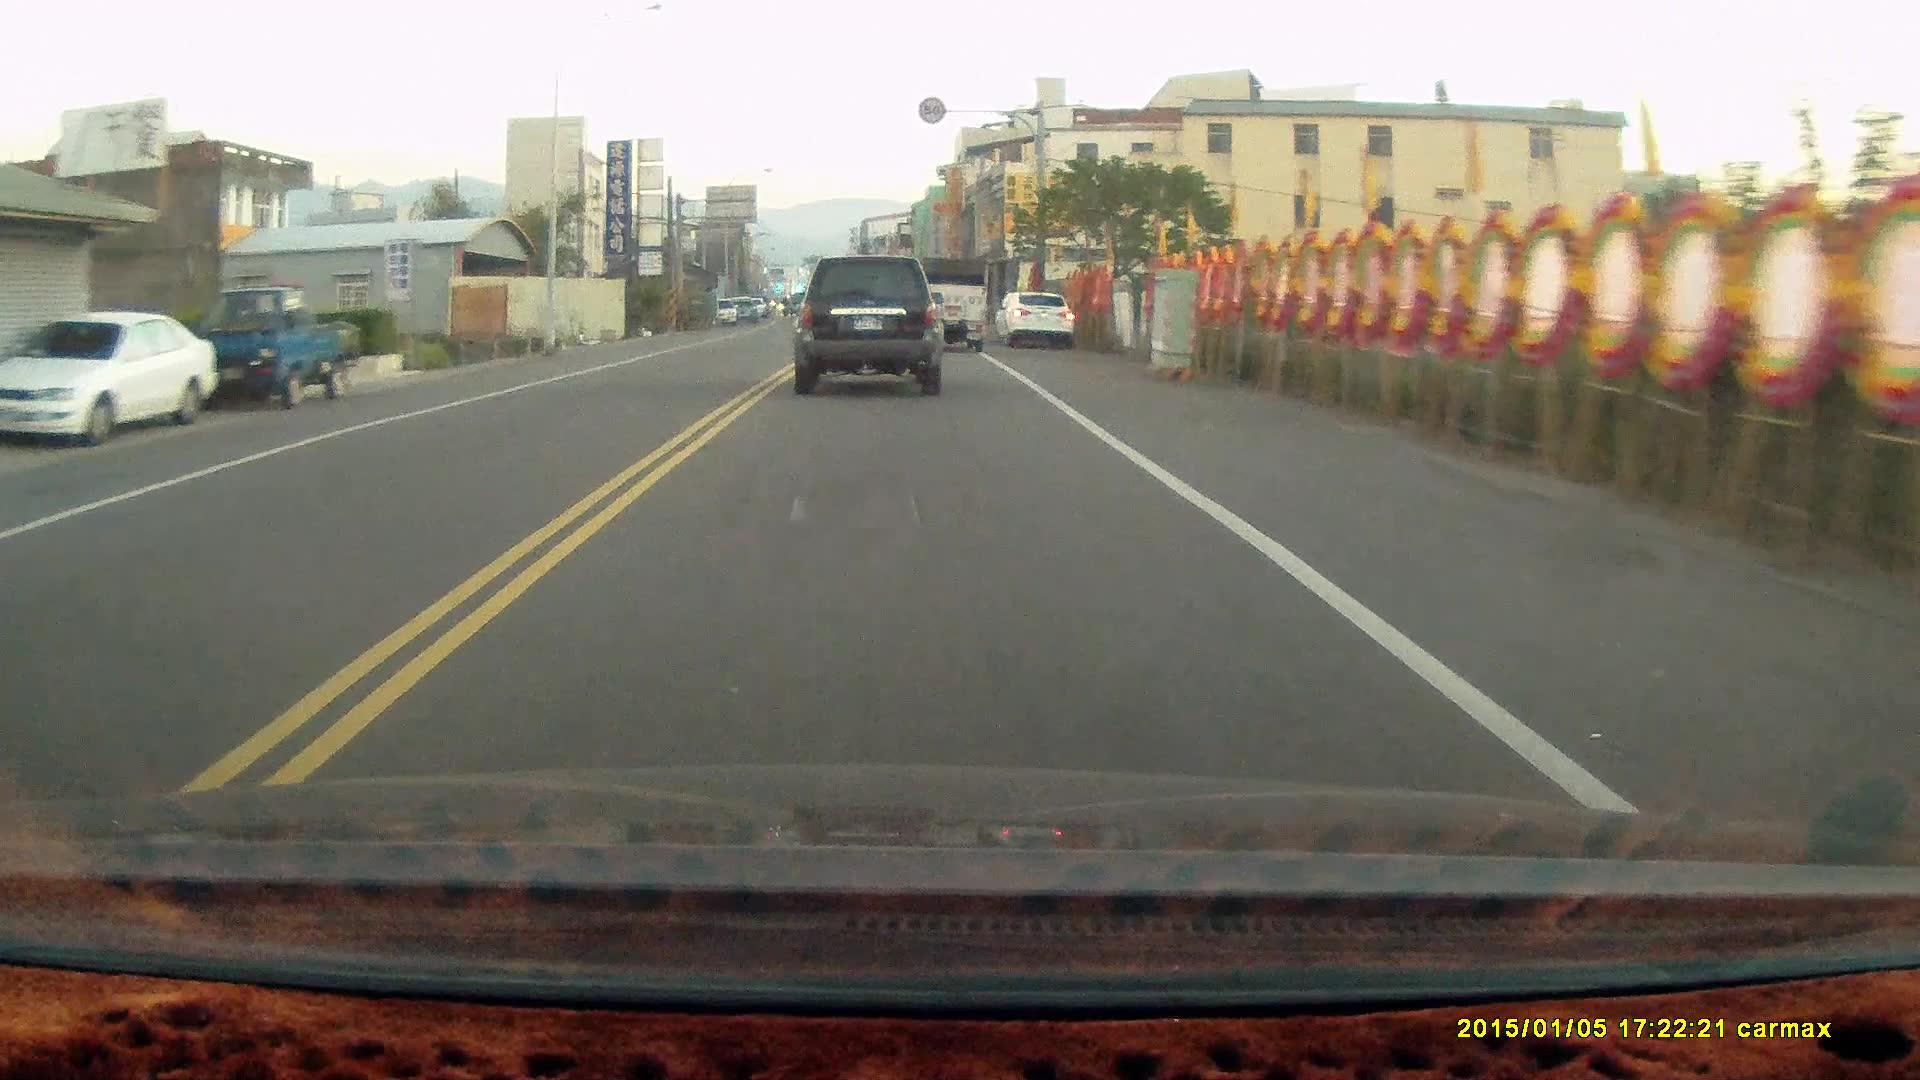vehicle: (1, 309, 225, 440), (179, 284, 360, 411), (795, 256, 945, 398), (913, 253, 992, 349), (1001, 286, 1077, 348)
